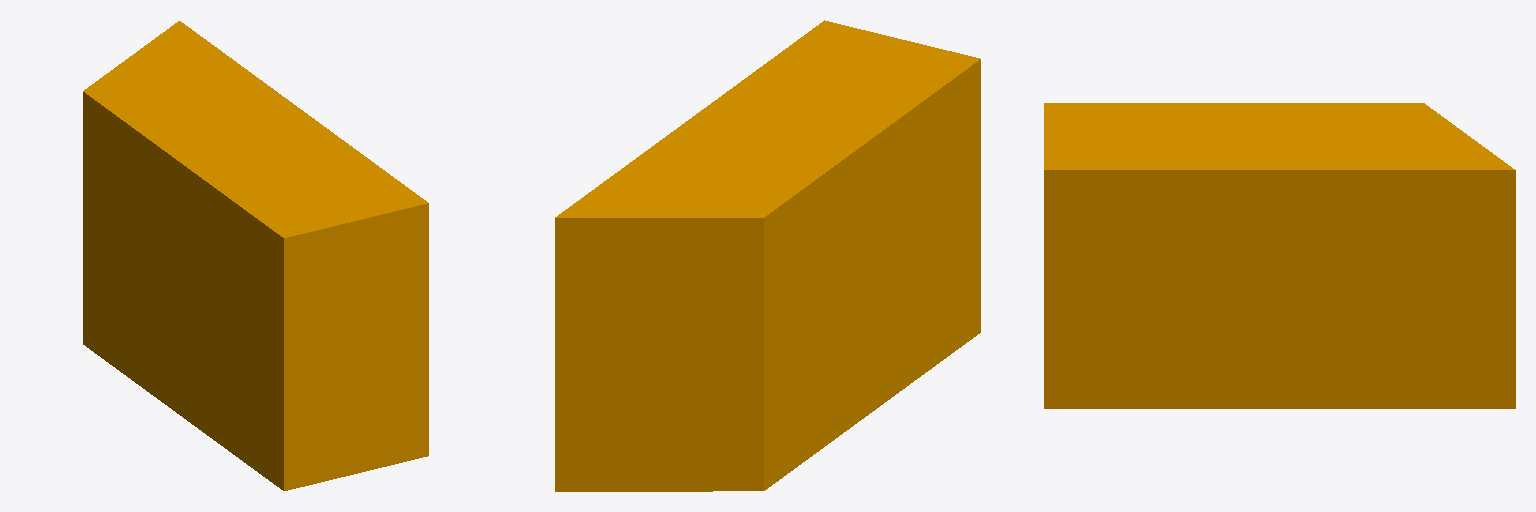
URDF robot description (isgefd):
<?xml version="1.0" ?>
<robot name="isgefd">
    <link name="base_link">
        <inertial>
            <origin xyz="0.000214775316 -0.00167120677 0.00999999978" rpy="0 0 0" />
            <mass value="0.00326159599" />
            <inertia ixx="3.98458664e-07" ixy="-1.12628606e-08" ixz="2.72064873e-24" iyy="1.47708562e-07" iyz="-4.35303797e-23" izz="3.28727503e-07" />
        </inertial>
        <visual name="visual">
            <origin xyz="0 0 0" rpy="0 0 0" />
            <geometry>
                <mesh filename="meshes/visual.obj" scale="1 1 1" />
            </geometry>
        </visual>
        <collision name="B_inside">
            <origin xyz="0 0 0" rpy="0 0 0" />
            <geometry>
                <mesh filename="meshes/collision/B_inside.obj" scale="1 1 1" />
            </geometry>
        </collision>
    </link>
</robot>

--- Facts derived from the render (not from the file) ---
3 views of the same robot in one strip: view 1: azimuth 30°, elevation 25°; view 2: azimuth 150°, elevation 25°; view 3: azimuth 270°, elevation 25° (orthographic).
Model isgefd with 1 links and 0 joints (none), rooted at base_link, posed all joints at 0.
Links seen in each view (by area): view 1: base_link; view 2: base_link; view 3: base_link.
Link boxes in pixels (x1=…): base_link: x1=83, y1=21, x2=428, y2=490; base_link: x1=555, y1=20, x2=980, y2=491; base_link: x1=1044, y1=103, x2=1515, y2=408.
Bounding box of the posed robot: 0.012 × 0.0357 × 0.02 m (x, y, z).
1 mesh visuals loaded from 1 distinct referenced files (1 OBJ).
